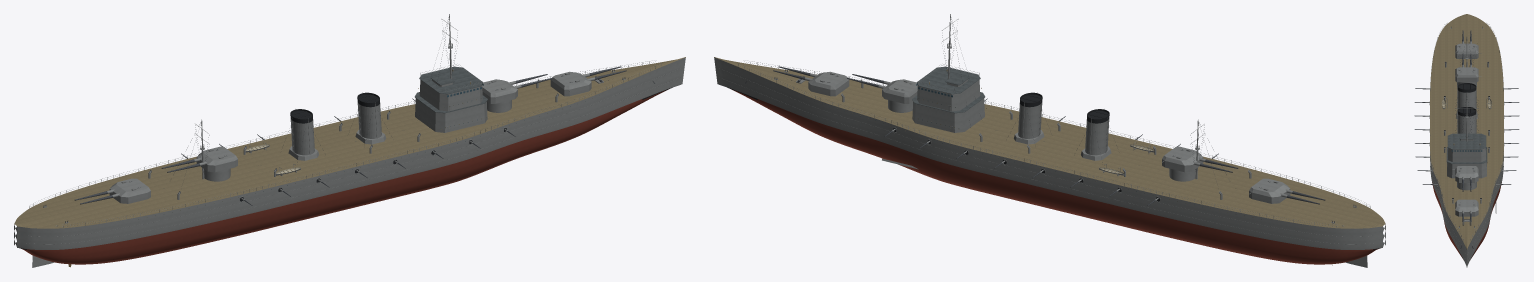
File: kongo.glb
3 renders of one model, left to right at view 1: azimuth 30°, elevation 25°; view 2: azimuth 150°, elevation 25°; view 3: azimuth 270°, elevation 25°, orthographic. The views are drawn at different scales.
Visible parts, largest first — view 1: Kongo class; view 2: Kongo class; view 3: Kongo class.
Boxes of the visible parts, left/top/right/bottom form: Kongo class: left=14, top=14, right=685, bottom=267; Kongo class: left=714, top=14, right=1385, bottom=267; Kongo class: left=1414, top=14, right=1519, bottom=267.
Bounding box in the file's own units: 214 × 47.16 × 39.86.
9 materials, 8 textured.
